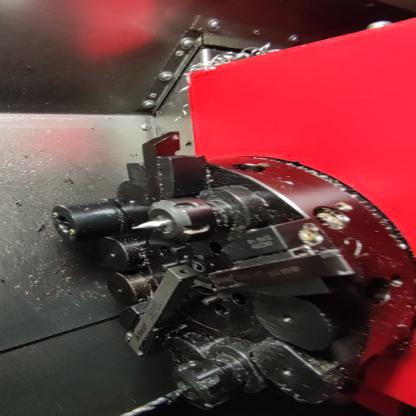bit: (200, 210, 378, 304), (108, 258, 207, 362), (120, 125, 223, 212)
